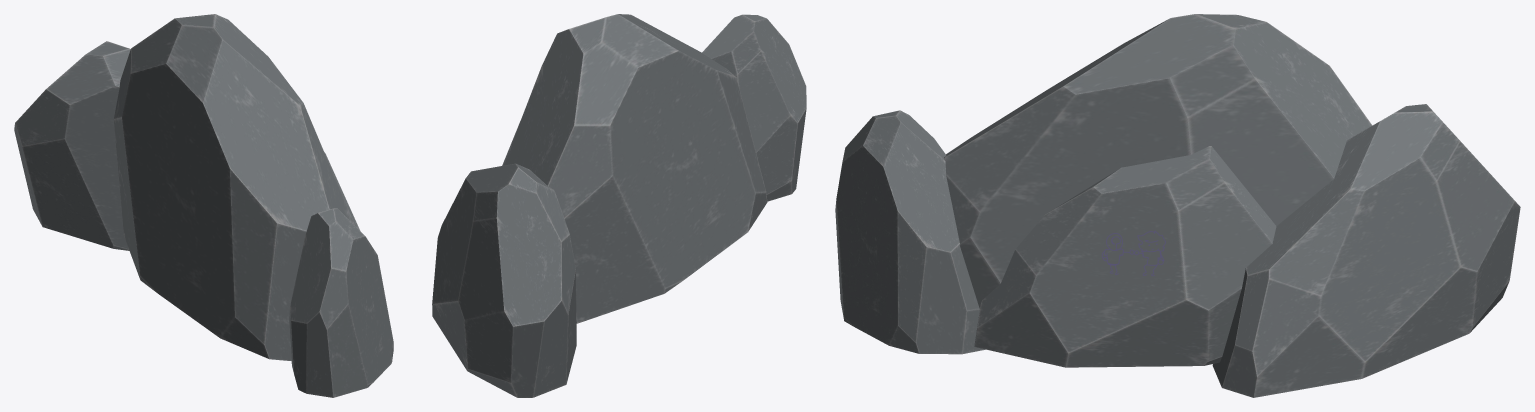
Rendered from rock wall.glb.
3 views of the same model, side by side, from view 1: azimuth 30°, elevation 25°; view 2: azimuth 150°, elevation 25°; view 3: azimuth 270°, elevation 25° (orthographic). The views are drawn at different scales.
Visible parts, largest first — view 1: Cube.003; view 2: Cube.003; view 3: Cube.003.
Boxes of the visible parts, left/top/right/bottom form: Cube.003: left=14, top=14, right=393, bottom=397; Cube.003: left=432, top=14, right=806, bottom=397; Cube.003: left=835, top=14, right=1520, bottom=397.
Size of the model in its own units: 1.7 by 2.03 by 4.08.
5 materials, 5 textured.
